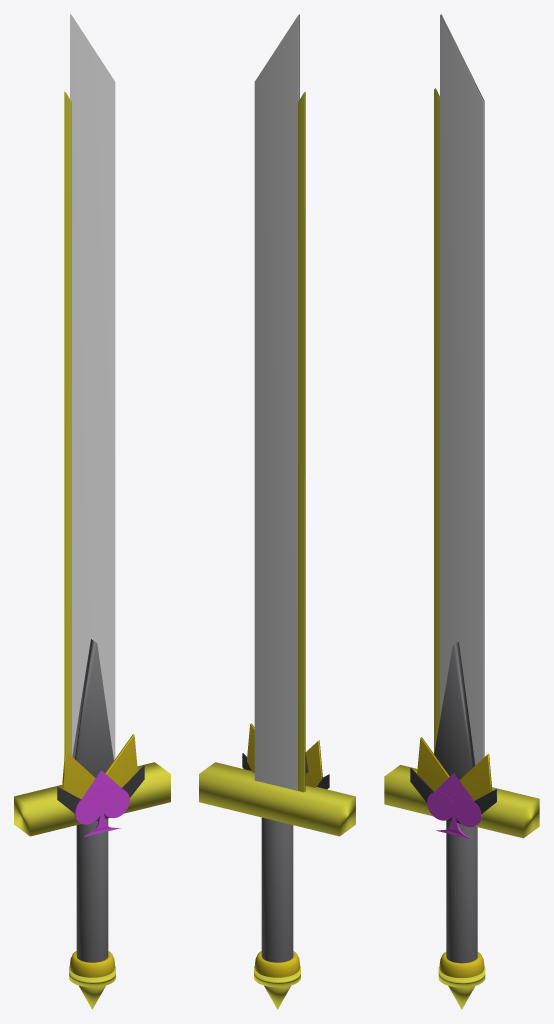
Rendered from Sword_Black_2.fbx.
3 views of the same model, side by side, from view 1: azimuth 30°, elevation 25°; view 2: azimuth 150°, elevation 25°; view 3: azimuth 330°, elevation 25° (orthographic).
Visible parts, largest first — view 1: Cube.009, Cube.010, Cylinder.007, Cube.008, Cube.012, Cube.011, Torus.001, Cube.007, Cylinder.002, Cylinder.005, Cube.005, Cylinder.006; view 2: Cube.009, Cube.008, Cube.010, Cylinder.007, Cube.011, Torus.001, Cylinder.006; view 3: Cube.009, Cylinder.007, Cube.010, Cube.008, Cube.012, Cube.011, Torus.001, Cube.007, Cylinder.002, Cylinder.005, Cube.005, Cylinder.006.
Boxes of the visible parts, <box> form: Cube.009: <box>70,14,115,760</box>; Cube.010: <box>64,92,71,757</box>; Cylinder.007: <box>76,818,108,962</box>; Cube.008: <box>14,762,170,836</box>; Cube.012: <box>72,639,113,777</box>; Cube.011: <box>61,734,137,798</box>; Torus.001: <box>70,951,114,977</box>; Cube.007: <box>57,765,144,821</box>; Cylinder.002: <box>74,795,106,824</box>; Cylinder.005: <box>103,788,129,818</box>; Cube.005: <box>82,770,122,801</box>; Cylinder.006: <box>69,965,115,987</box>; Cube.009: <box>254,14,299,790</box>; Cube.008: <box>199,762,355,836</box>; Cube.010: <box>298,92,305,792</box>; Cylinder.007: <box>261,817,293,962</box>; Cube.011: <box>247,723,322,787</box>; Torus.001: <box>255,951,299,977</box>; Cylinder.006: <box>254,965,300,987</box>; Cube.009: <box>440,14,484,765</box>; Cylinder.007: <box>446,820,477,963</box>; Cube.010: <box>434,88,439,753</box>; Cube.008: <box>384,765,539,838</box>; Cube.012: <box>434,642,475,779</box>; Cube.011: <box>417,737,492,800</box>; Torus.001: <box>439,952,484,977</box>; Cube.007: <box>410,768,496,823</box>; Cylinder.002: <box>427,791,457,820</box>; Cylinder.005: <box>454,798,481,827</box>; Cube.005: <box>434,773,474,804</box>; Cylinder.006: <box>438,966,485,987</box>.
Bounding box in the file's own units: 136 × 928 × 39.84.
